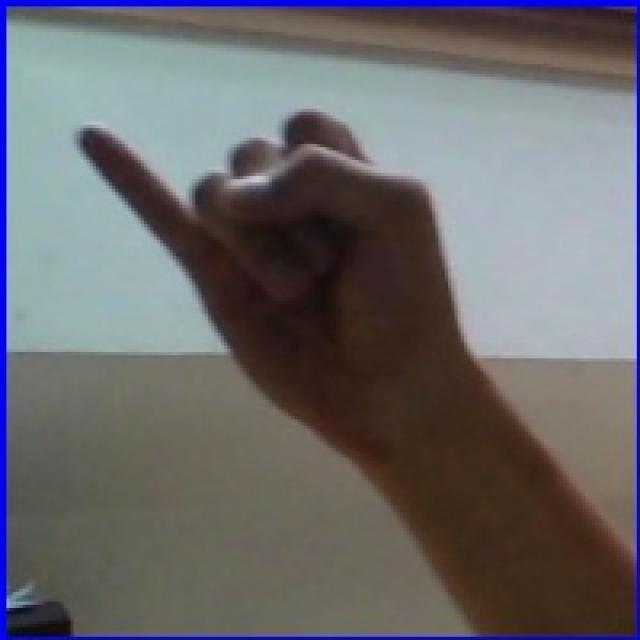J: (27, 48, 593, 511)
